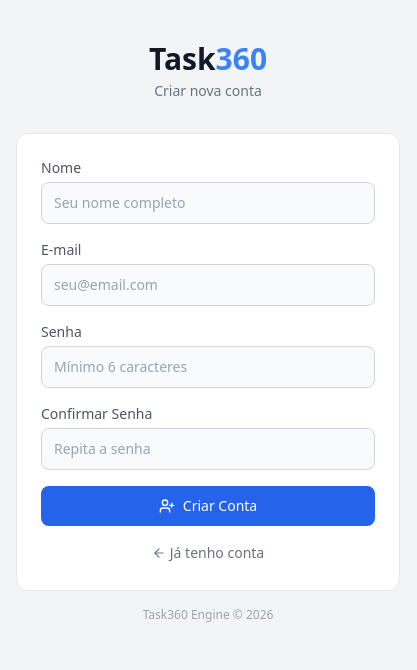
Scenario: RegisterPage › should show API error message on failure
The width and height of the screenshot is (417, 670).
Type "João" into the field with placeholder "Seu nome completo" at coordinates (208, 203), box [41,182,375,224]
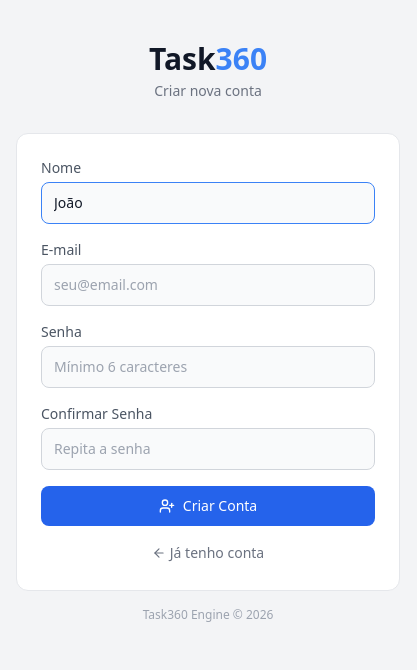
Type "existing@test.com" into the field with placeholder "seu@email.com" at coordinates (208, 285), box [41,264,375,306]
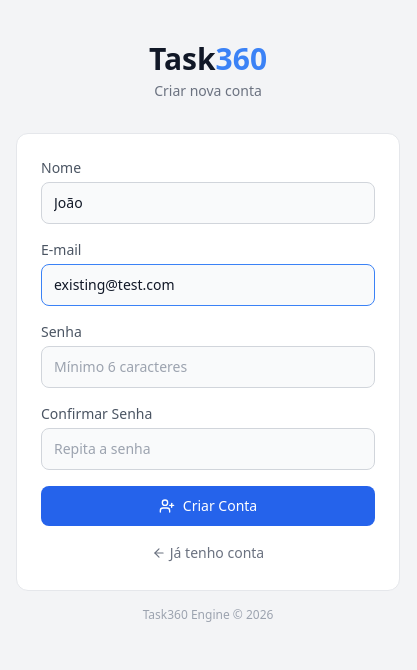
Type "password123" into the password field with placeholder "Mínimo 6 caracteres" at coordinates (208, 367), box [41,346,375,388]
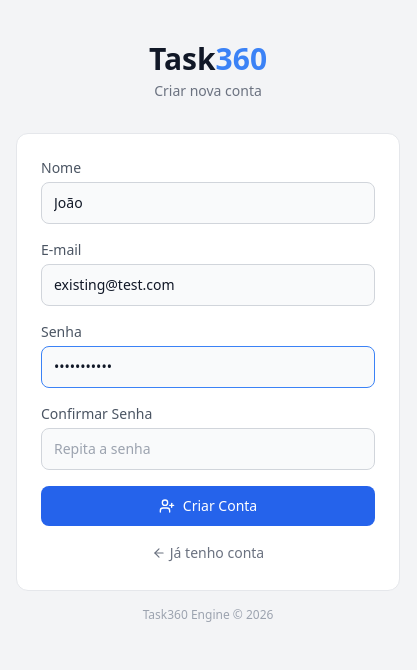
Type "password123" into the password field with placeholder "Repita a senha" at coordinates (208, 449), box [41,428,375,470]
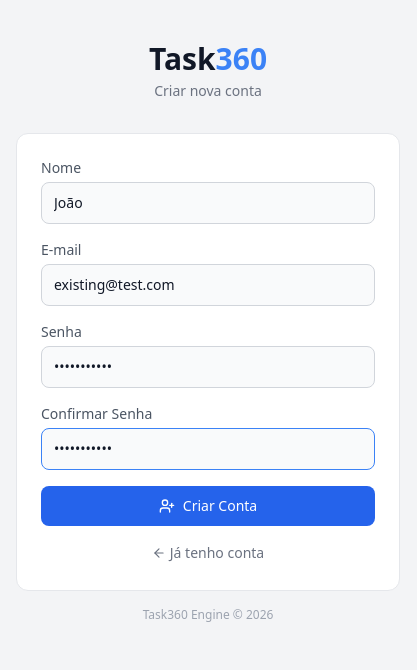
Click the button "Criar Conta" at coordinates (208, 506), box [41,486,375,526]
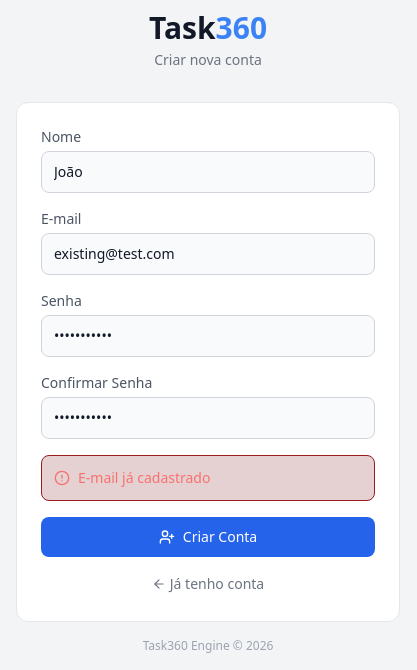
Check: the text "E-mail já cadastrado" is shown, box [41,455,375,501]
